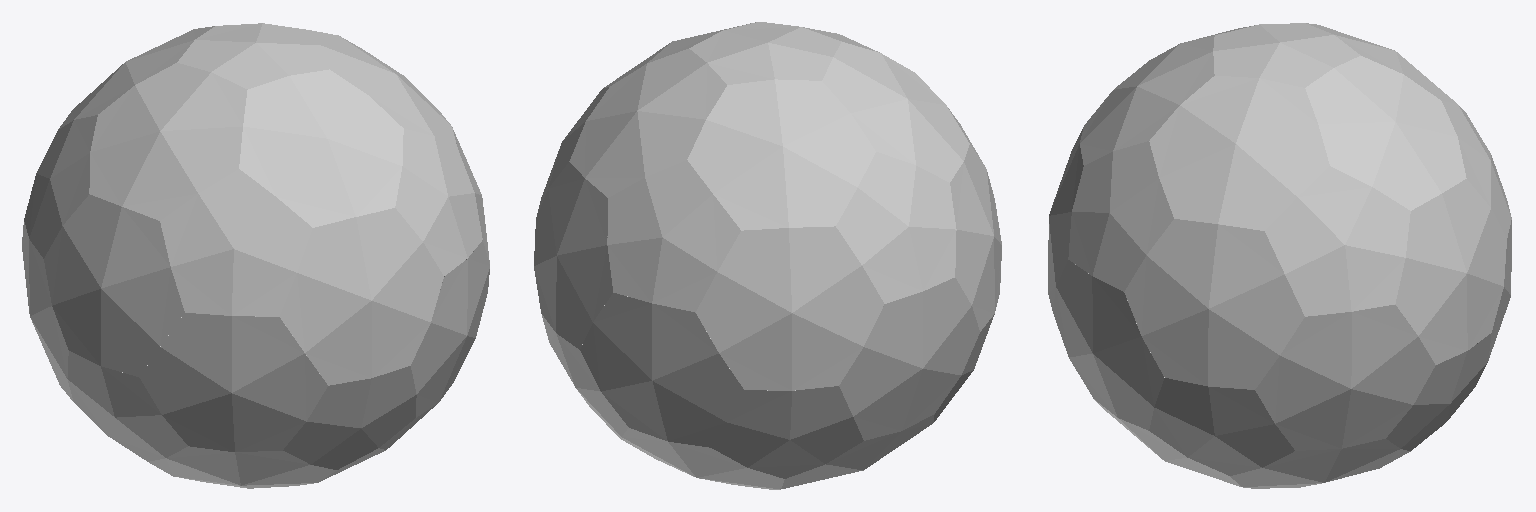
Rendered from soccer_ball.obj.
The picture shows the model from 3 angles: view 1: azimuth 30°, elevation 25°; view 2: azimuth 150°, elevation 25°; view 3: azimuth 270°, elevation 25°; orthographic projection.
Parts seen in each view (by area): view 1: soccer_ball; view 2: soccer_ball; view 3: soccer_ball.
Part boxes in pixels (bbox=[...]): soccer_ball: bbox=[22, 23, 489, 488]; soccer_ball: bbox=[534, 22, 1001, 489]; soccer_ball: bbox=[1048, 23, 1511, 488].
Size of the model in its own units: 1.97 by 1.97 by 1.94.